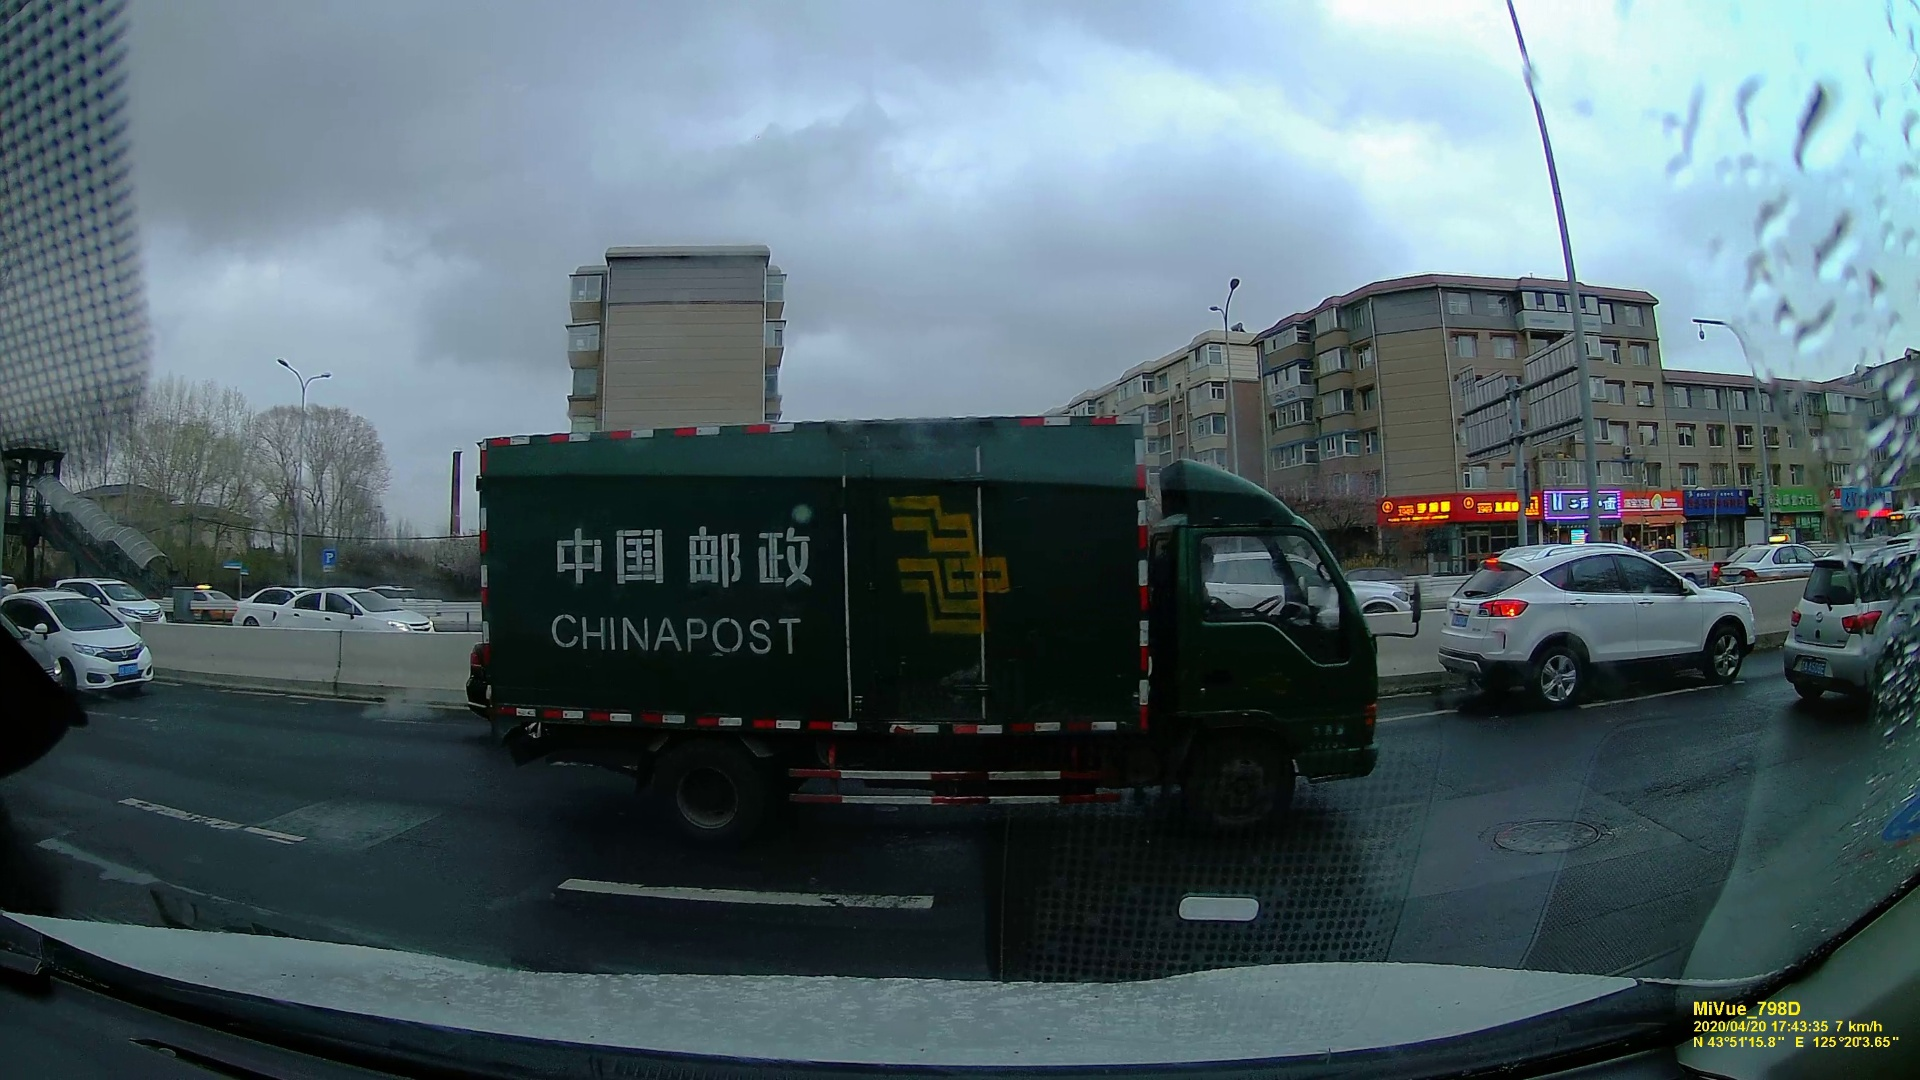truck: (467, 422, 1385, 822)
vehicle: (1443, 547, 1753, 712), (1788, 547, 1912, 711), (3, 582, 153, 698), (287, 583, 436, 636)
